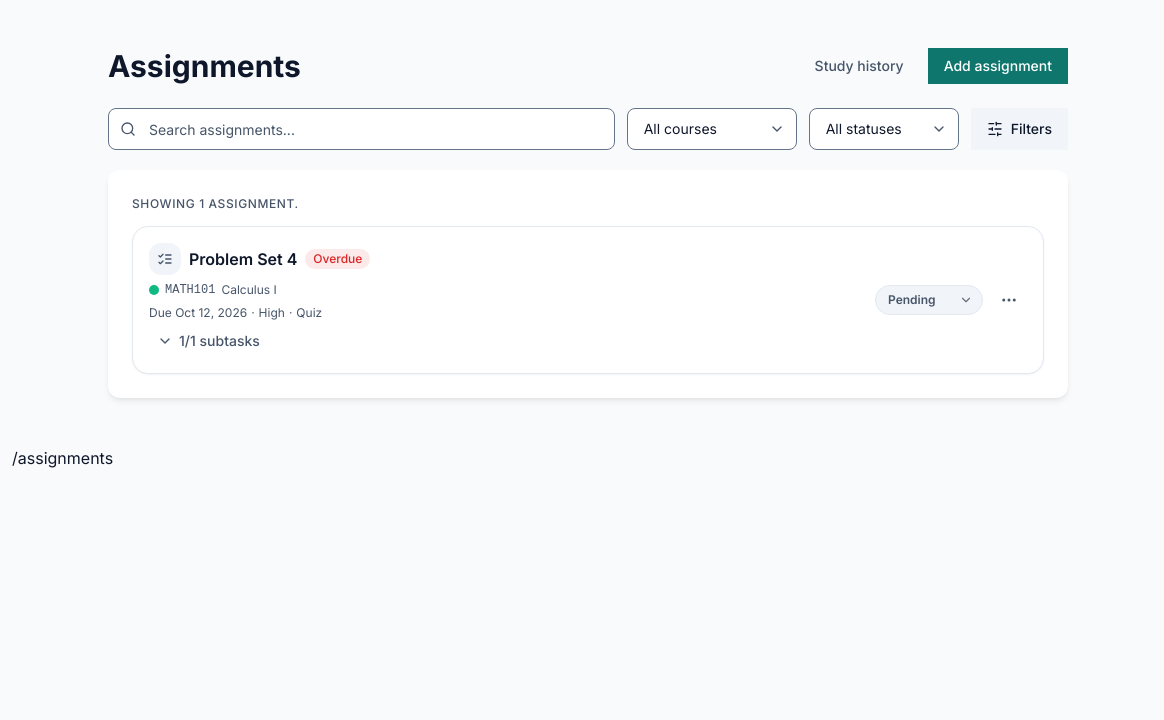
AssignmentsPage shared interaction (SP-124B AC 8) › opens the shared subtask checklist from the row disclosure
Expected: the button "Problem Set 4" is shown, [189,247,297,271]
Click the button with aria-label "Subtasks for Problem Set 4: 1 subtask, 1 complete" at (208, 341), box [145,325,272,357]
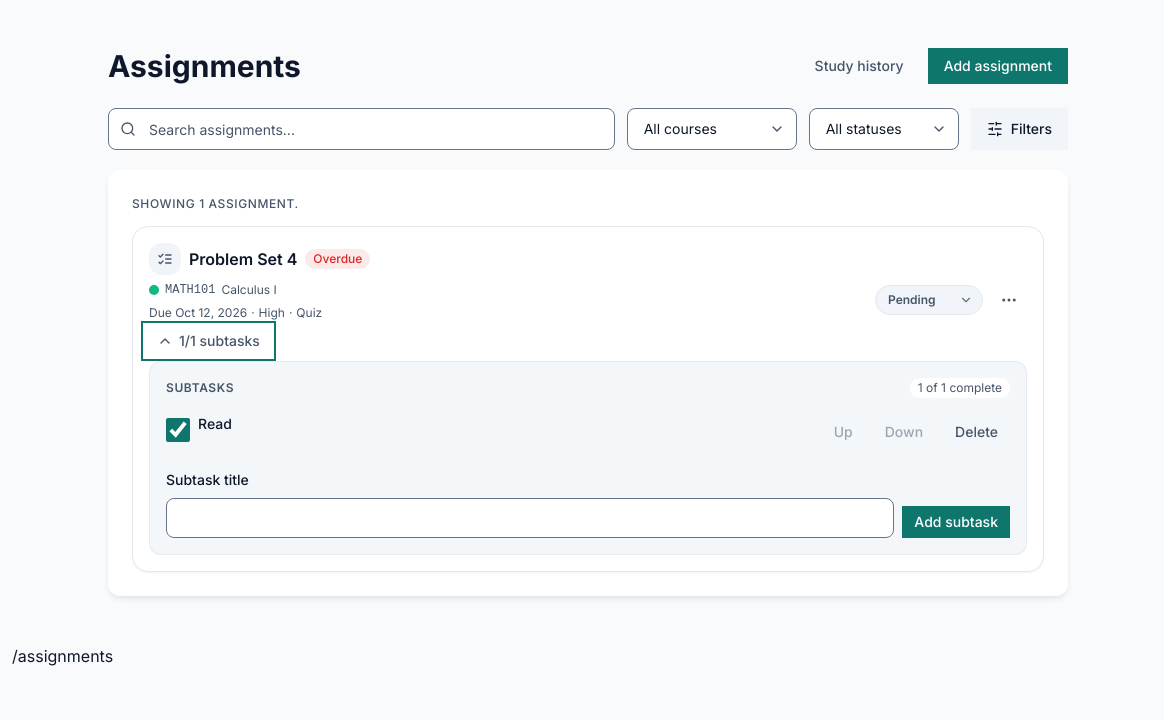
Result: the element named "Subtasks for Problem Set 4: 1 subtask, 1 complete" is shown at [149,361,1027,555]
Result: the checkbox labelled "Read" is checked at [166,418,190,442]
